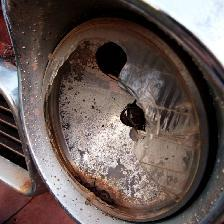broken_part: (98, 35, 190, 159)
